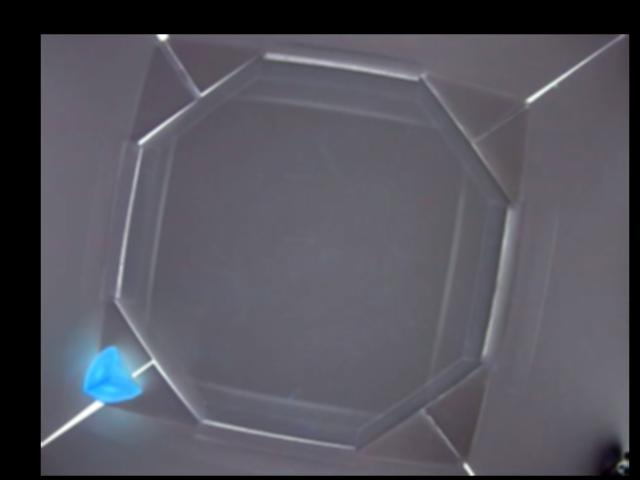Carrot: (84, 346, 142, 403)
